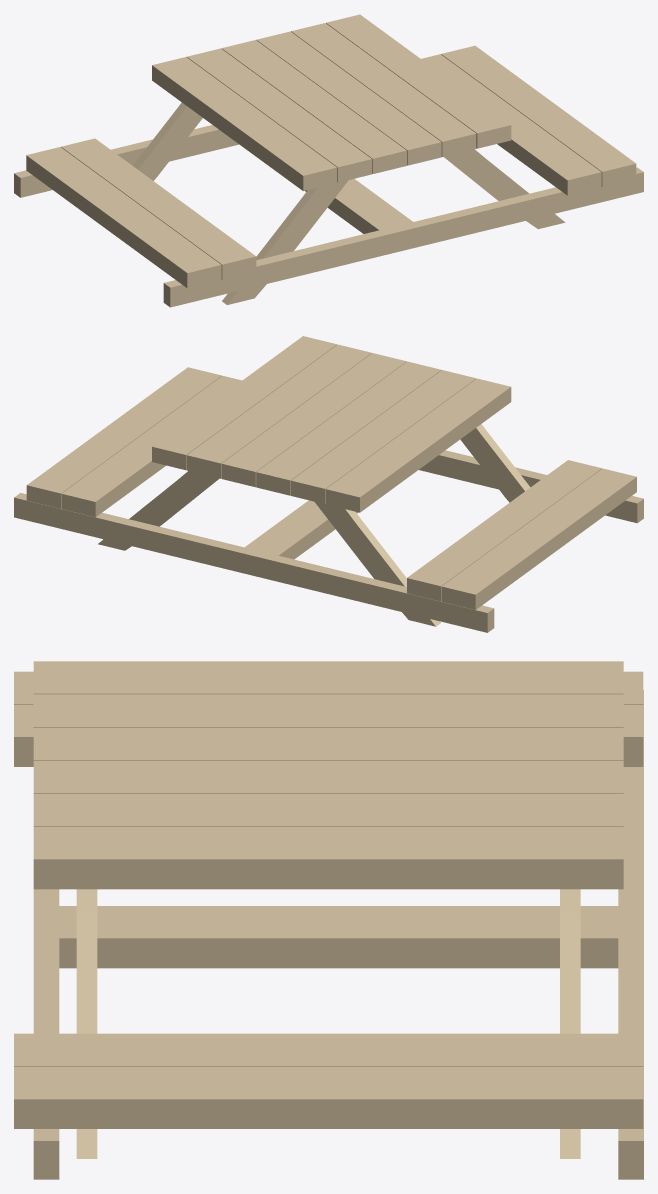
Rendered from Picnic Table.fbx.
3 renders of one model, top to bottom at view 1: azimuth 30°, elevation 25°; view 2: azimuth 150°, elevation 25°; view 3: azimuth 270°, elevation 25°, orthographic. The views are drawn at different scales.
Parts seen in each view (by area): view 1: pCube16, pCube14, pCube1, pCube18, pCube15, pCube4, pCube5, pCube3, pCube2, pCube6, pCube17, pCube12 (+4 smaller); view 2: pCube19, pCube14, pCube1, pCube18, pCube15, pCube5, pCube6, pCube3, pCube4, pCube2, pCube17, pCube13 (+4 smaller); view 3: pCube18, pCube4, pCube20, pCube17, pCube2, pCube1, pCube3, pCube5, pCube6, pCube19, pCube16, pCube10 (+3 smaller).
Part boxes in pixels (x1,y1,x2,y2): pCube16: (163, 167, 643, 307); pCube14: (26, 147, 221, 288); pCube1: (152, 57, 337, 190); pCube18: (441, 45, 636, 187); pCube15: (61, 138, 256, 279); pCube4: (326, 14, 511, 148); pCube5: (291, 23, 476, 156); pCube3: (221, 40, 406, 173); pCube2: (187, 48, 371, 182); pCube6: (256, 31, 441, 165); pCube17: (421, 54, 601, 195); pCube12: (222, 180, 348, 304); pCube19: (14, 493, 494, 632); pCube14: (441, 468, 636, 609); pCube1: (326, 378, 511, 512); pCube18: (26, 367, 221, 508); pCube15: (407, 460, 602, 601); pCube5: (186, 344, 371, 478); pCube6: (221, 353, 406, 487); pCube3: (256, 361, 441, 495); pCube4: (152, 336, 337, 470); pCube2: (291, 370, 476, 503); pCube17: (61, 376, 241, 517); pCube13: (314, 501, 440, 626); pCube18: (14, 1066, 643, 1128); pCube4: (33, 827, 623, 889); pCube20: (59, 906, 618, 968); pCube17: (14, 1033, 643, 1066); pCube2: (33, 694, 623, 727); pCube1: (33, 661, 623, 694); pCube3: (33, 727, 623, 760); pCube5: (33, 793, 623, 826); pCube6: (33, 760, 623, 793); pCube19: (618, 690, 643, 1179); pCube16: (33, 889, 59, 1179); pCube10: (76, 889, 97, 1158).
Bounding box in the file's own units: 107 × 26.23 × 63.13.
